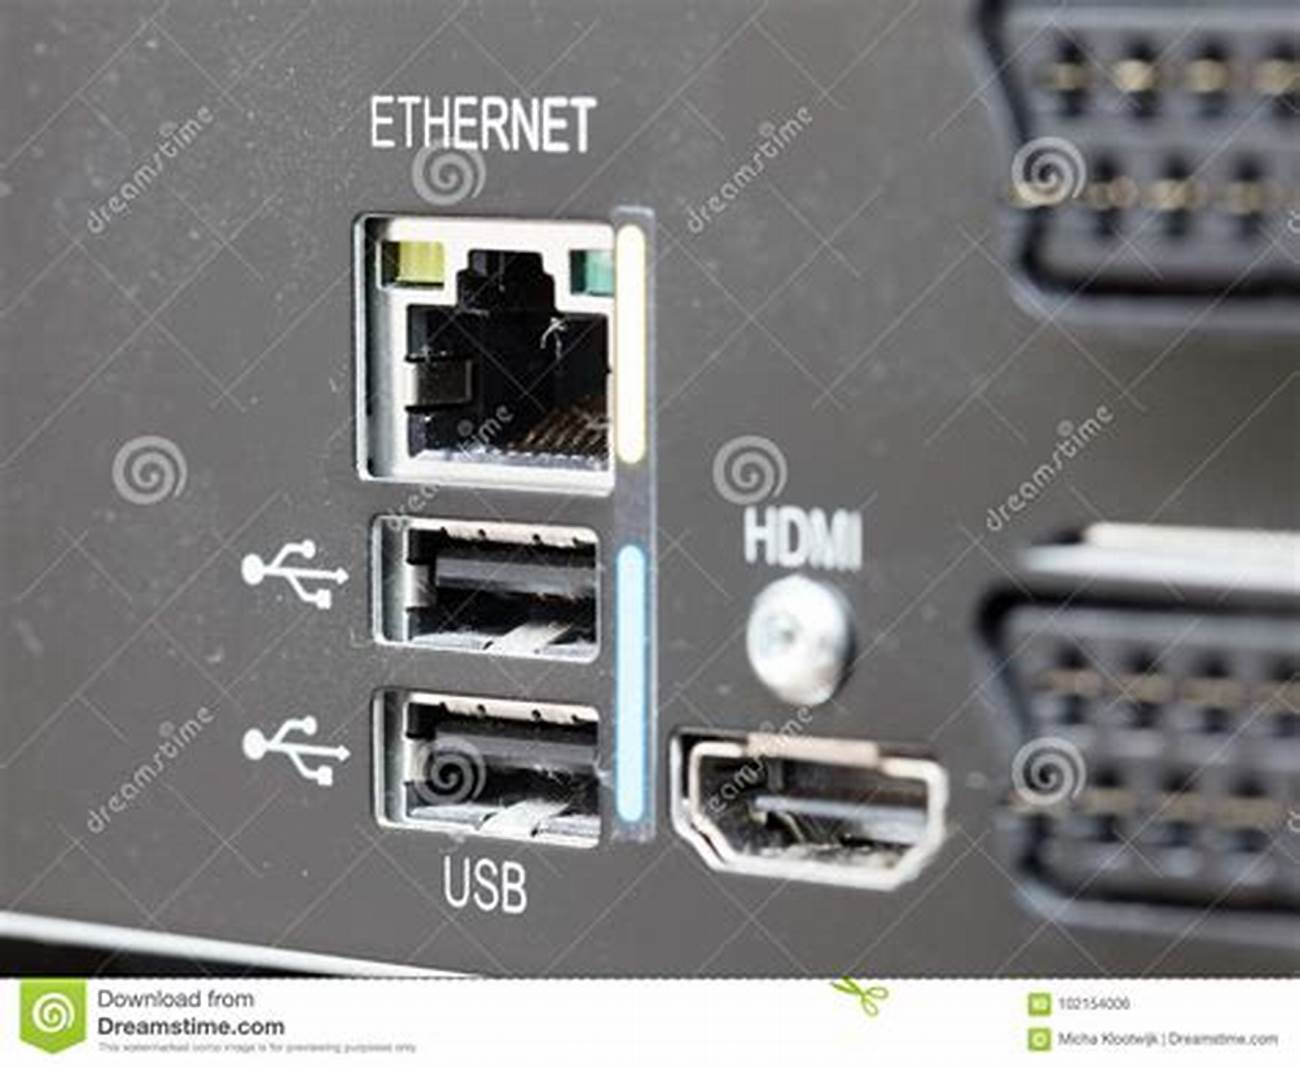Ethernet: (365, 218, 620, 491)
HDMI: (674, 726, 958, 893)
USB: (367, 688, 605, 853), (371, 519, 602, 658)
